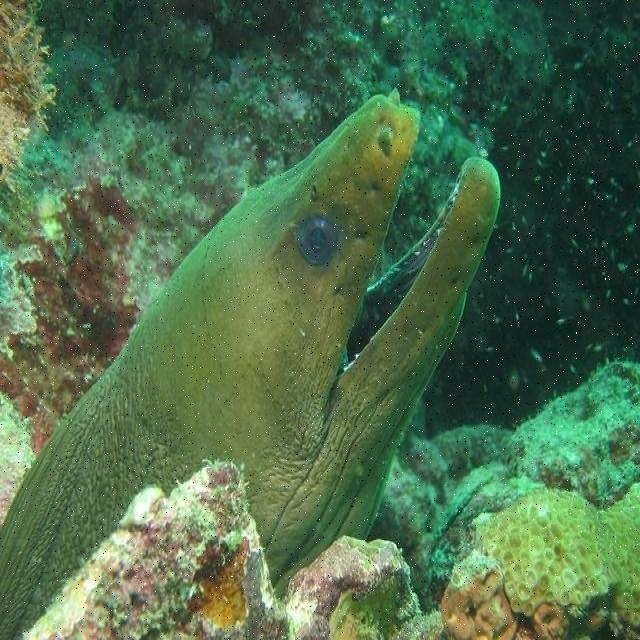aquatic plants: (0, 1, 56, 181)
fish: (0, 91, 502, 639)
sea-floor: (0, 6, 550, 524), (26, 471, 438, 639), (364, 358, 639, 609), (440, 483, 639, 639)
